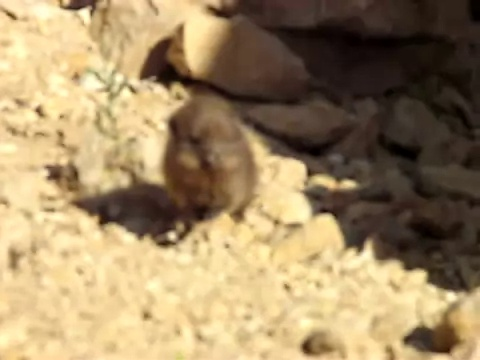Rock Hyrex: (156, 94, 257, 224)
